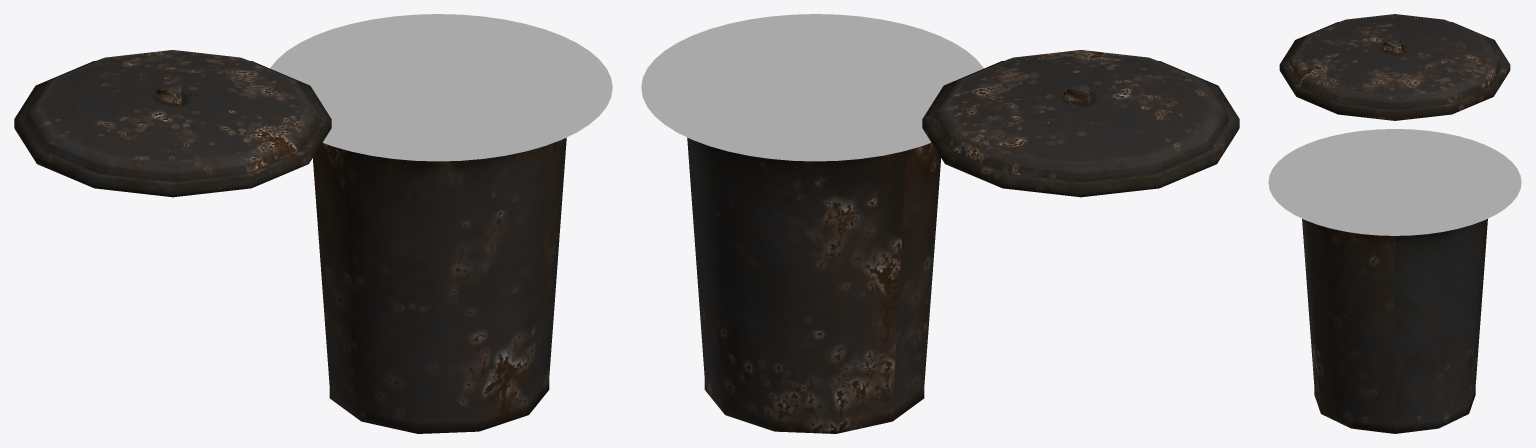
File: rubbish_bin_final.fbx
3 renders of one model, left to right at view 1: azimuth 30°, elevation 25°; view 2: azimuth 150°, elevation 25°; view 3: azimuth 270°, elevation 25°, orthographic. The views are drawn at different scales.
Parts seen in each view (by area): view 1: base_rubbish_bin, rubbish_plastic, base_rubbish_top; view 2: base_rubbish_bin, rubbish_plastic, base_rubbish_top; view 3: base_rubbish_bin, rubbish_plastic, base_rubbish_top.
Boxes of the visible parts, x1,y1,x2,y2 form: base_rubbish_bin: (313, 137, 566, 433); rubbish_plastic: (270, 14, 612, 161); base_rubbish_top: (14, 50, 331, 197); base_rubbish_bin: (687, 137, 940, 433); rubbish_plastic: (641, 14, 983, 161); base_rubbish_top: (922, 50, 1239, 197); base_rubbish_bin: (1302, 219, 1487, 433); rubbish_plastic: (1268, 129, 1521, 235); base_rubbish_top: (1279, 14, 1510, 120).
Bounding box in the file's own units: 20.83 × 13.19 × 11.36.
2 materials, 1 textured.
